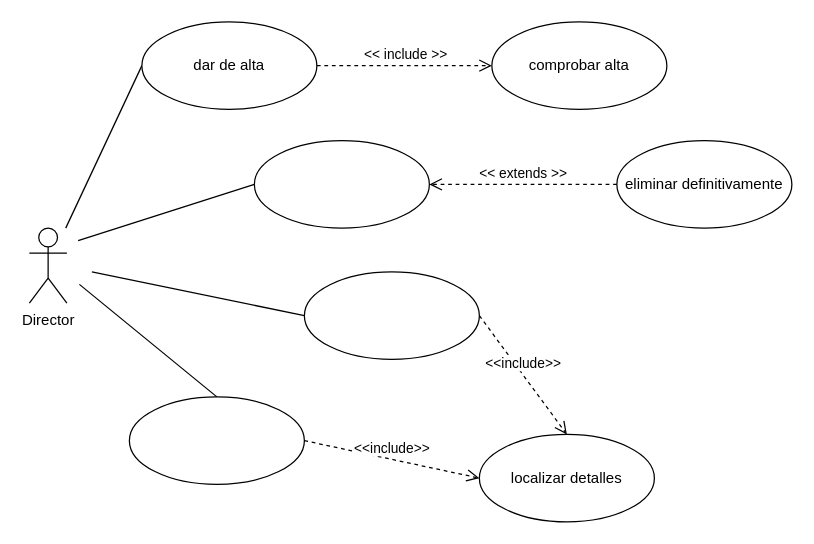
The diagram is 814 pixels wide and 544 high, and some of its shapes have lost their labels. The shapes that lost their labels are listed below. From the top down, each one's centre as x and y in pixels, then its label:
At pixel 341 183: "dar de baja".
At pixel 391 315: "consultar Datos".
At pixel 216 440: "modificar Datos".
